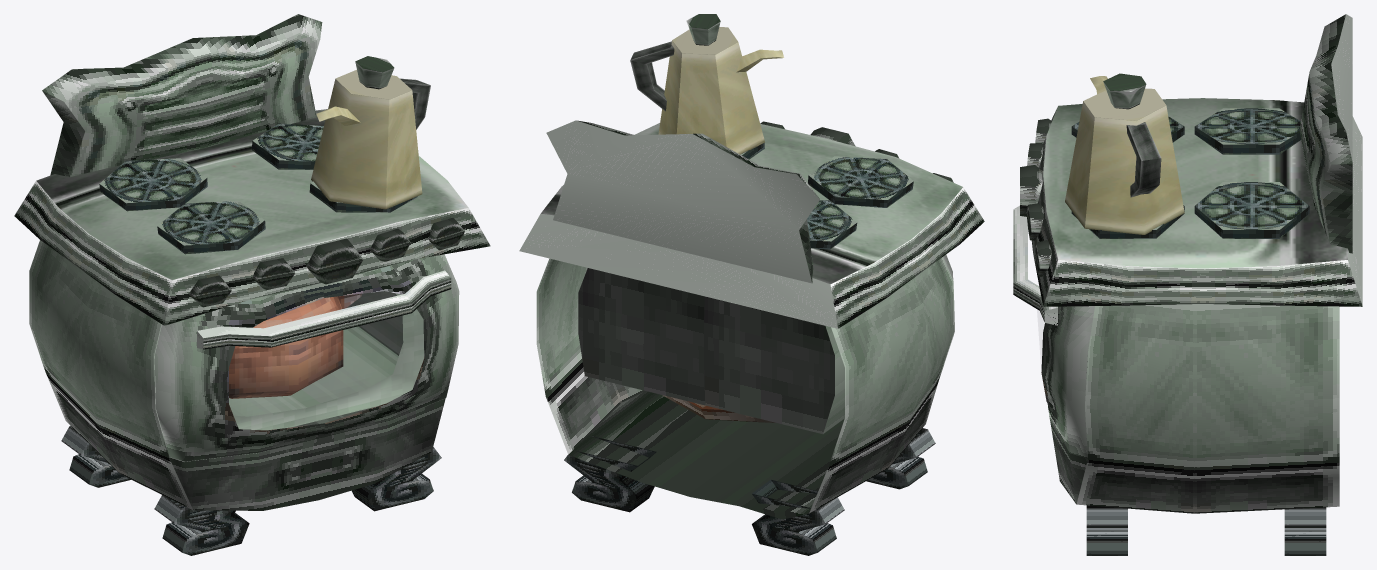
File: kitchen_oven.obj
3 views of the same model, side by side, from view 1: azimuth 30°, elevation 25°; view 2: azimuth 150°, elevation 25°; view 3: azimuth 270°, elevation 25° (orthographic). The views are drawn at different scales.
Visible parts, largest first — view 1: part5_texture1, part3_texture5, part6_texture6, part0_texture0.005, part0_texture0.006, part4_texture3, part7_texture7, part8_texture8, part9_texture2, part2_texture4, part1_texture3, part2_texture1; view 2: part5_texture1, part1_texture3.001, part0_texture0.006, part6_texture6, part8_texture8, part9_texture2, part4_texture3, part7_texture7, part3_texture5, part2_texture4; view 3: part5_texture1, part6_texture6, part4_texture3, part8_texture8, part7_texture7, part3_texture5, part0_texture0.005, part9_texture2, part1_texture3.001, part2_texture4, part1_texture3, part0_texture0.006.
Boxes of the visible parts, bbox=[...] form: part5_texture1: bbox=[29, 240, 403, 509]; part3_texture5: bbox=[42, 14, 322, 177]; part6_texture6: bbox=[36, 56, 468, 280]; part0_texture0.005: bbox=[154, 254, 459, 461]; part0_texture0.006: bbox=[169, 293, 445, 510]; part4_texture3: bbox=[14, 181, 490, 325]; part7_texture7: bbox=[99, 123, 417, 254]; part8_texture8: bbox=[311, 69, 422, 209]; part9_texture2: bbox=[61, 426, 441, 555]; part2_texture4: bbox=[189, 218, 464, 307]; part1_texture3: bbox=[197, 270, 451, 349]; part2_texture1: bbox=[234, 293, 424, 430]; part5_texture1: bbox=[536, 257, 954, 513]; part1_texture3.001: bbox=[519, 120, 837, 328]; part0_texture0.006: bbox=[568, 391, 844, 519]; part6_texture6: bbox=[541, 14, 962, 284]; part8_texture8: bbox=[658, 27, 784, 154]; part9_texture2: bbox=[564, 428, 935, 555]; part4_texture3: bbox=[830, 187, 984, 328]; part7_texture7: bbox=[740, 143, 913, 249]; part3_texture5: bbox=[577, 120, 819, 282]; part2_texture4: bbox=[760, 121, 953, 182]; part5_texture1: bbox=[1076, 304, 1339, 513]; part6_texture6: bbox=[1043, 73, 1347, 268]; part4_texture3: bbox=[1031, 109, 1362, 306]; part8_texture8: bbox=[1065, 76, 1184, 234]; part7_texture7: bbox=[1071, 108, 1309, 238]; part3_texture5: bbox=[1299, 14, 1352, 253]; part0_texture0.005: bbox=[1041, 306, 1094, 458]; part9_texture2: bbox=[1086, 505, 1326, 555]; part1_texture3.001: bbox=[1331, 14, 1362, 305]; part2_texture4: bbox=[1020, 118, 1051, 276]; part1_texture3: bbox=[1013, 205, 1057, 325]; part0_texture0.006: bbox=[1050, 420, 1087, 504].
Bounding box in the file's own units: 1.78 × 2.03 × 1.4.
10 materials, 10 textured.
